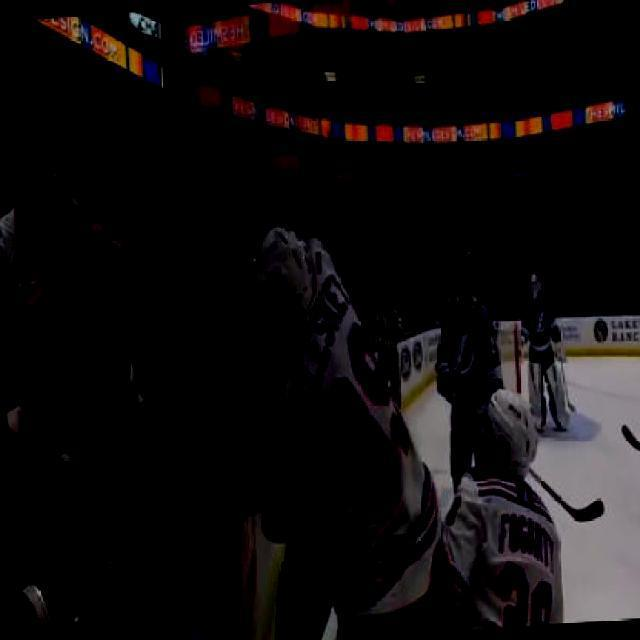fight: (216, 216, 457, 638)
